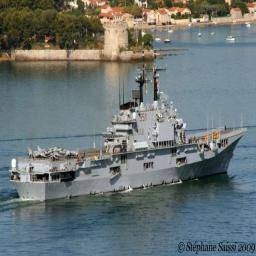Portanaves: (9, 55, 250, 205)
